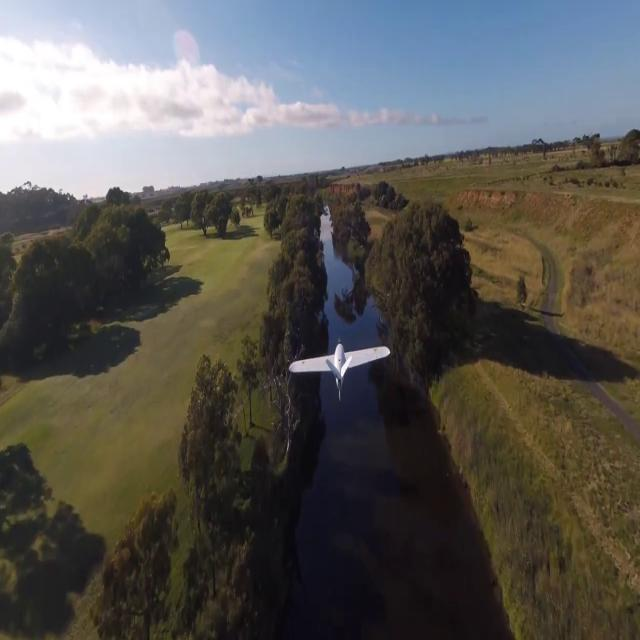iha: (318, 342, 360, 393)
